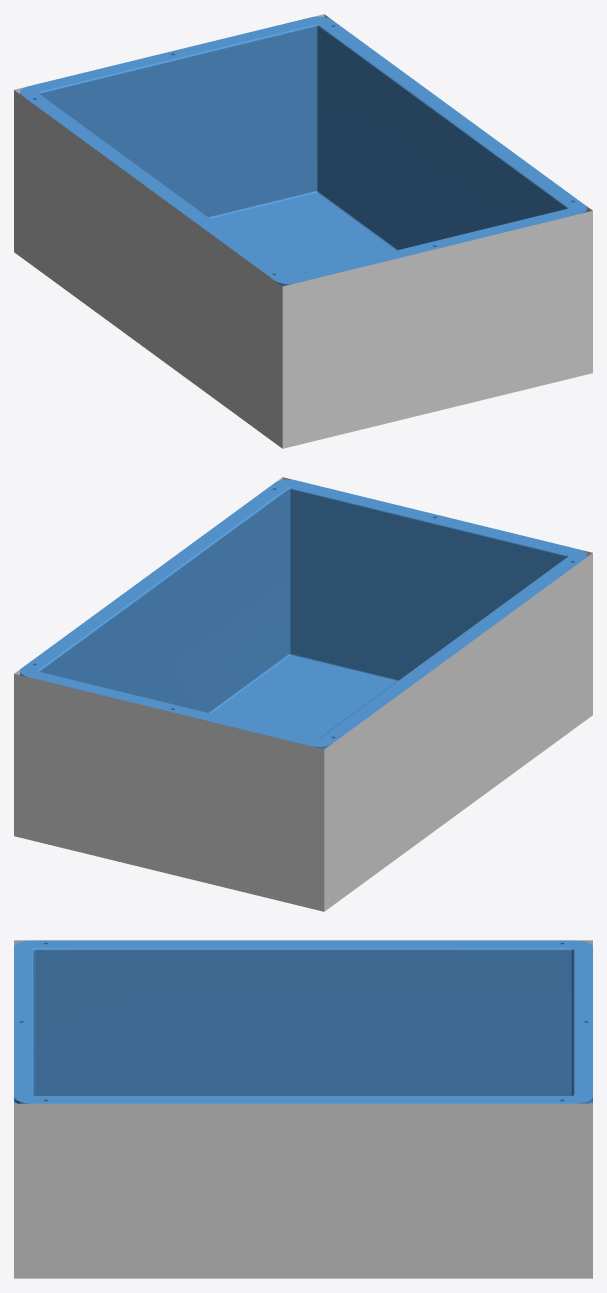
Rendered from klt_642.fbx.
3 renders of one model, top to bottom at view 1: azimuth 30°, elevation 25°; view 2: azimuth 150°, elevation 25°; view 3: azimuth 270°, elevation 25°, orthographic. The views are drawn at different scales.
Parts seen in each view (by area): view 1: BRep_1.001, DataLabel.001, DataLabel; view 2: BRep_1.001, DataLabel.003, DataLabel; view 3: DataLabel.002, BRep_1.001.
Boxes of the visible parts, bbox=[...] form: BRep_1.001: bbox=[20, 16, 586, 286]; DataLabel.001: bbox=[282, 211, 592, 448]; DataLabel: bbox=[14, 90, 282, 448]; BRep_1.001: bbox=[20, 479, 586, 749]; DataLabel.003: bbox=[14, 674, 324, 911]; DataLabel: bbox=[324, 553, 592, 911]; DataLabel.002: bbox=[14, 1103, 592, 1278]; BRep_1.001: bbox=[14, 940, 592, 1103].
Size of the model in its own units: 40.01 by 20.9 by 60.
